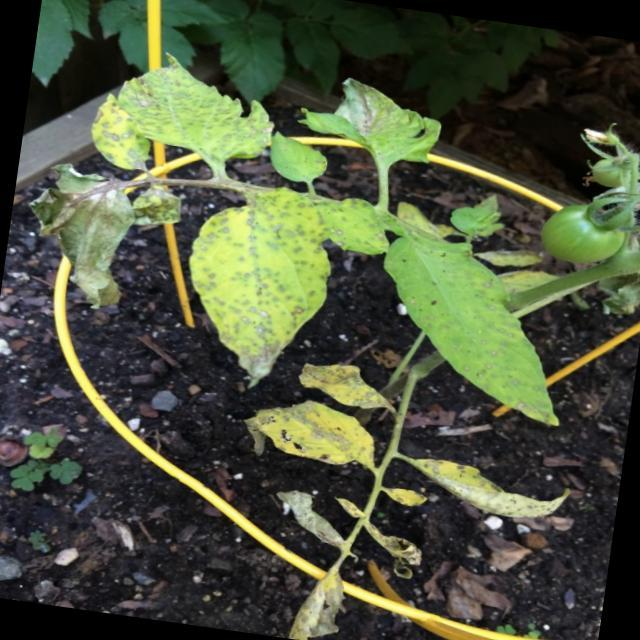Tomato Septoria spot leaf: (364, 221, 584, 428), (171, 174, 343, 398), (110, 44, 286, 174), (289, 68, 452, 176), (232, 390, 380, 474), (406, 453, 575, 526), (87, 90, 159, 173), (314, 192, 392, 258), (264, 128, 332, 187), (130, 184, 188, 233)
